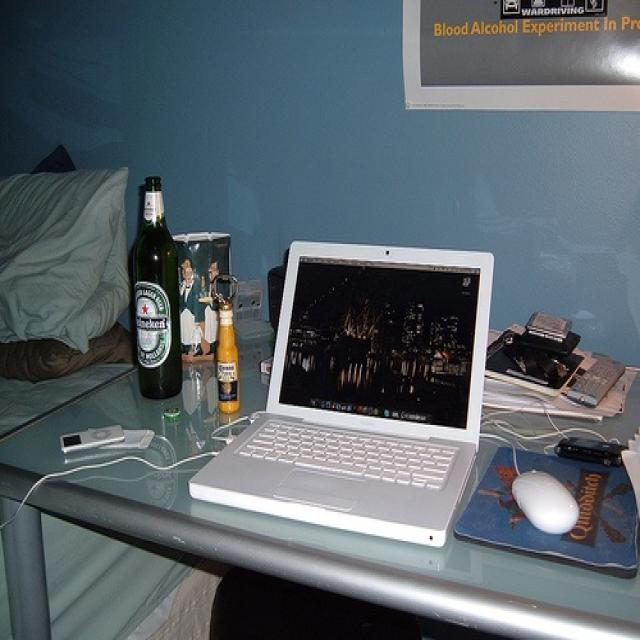bottle: (132, 174, 183, 398), (212, 299, 240, 413)
